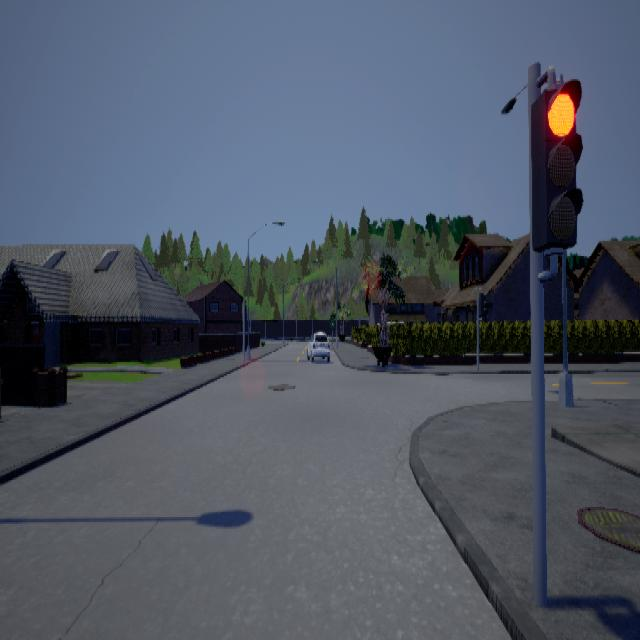red_light: (530, 64, 583, 281)
vehicle: (306, 330, 329, 361)
